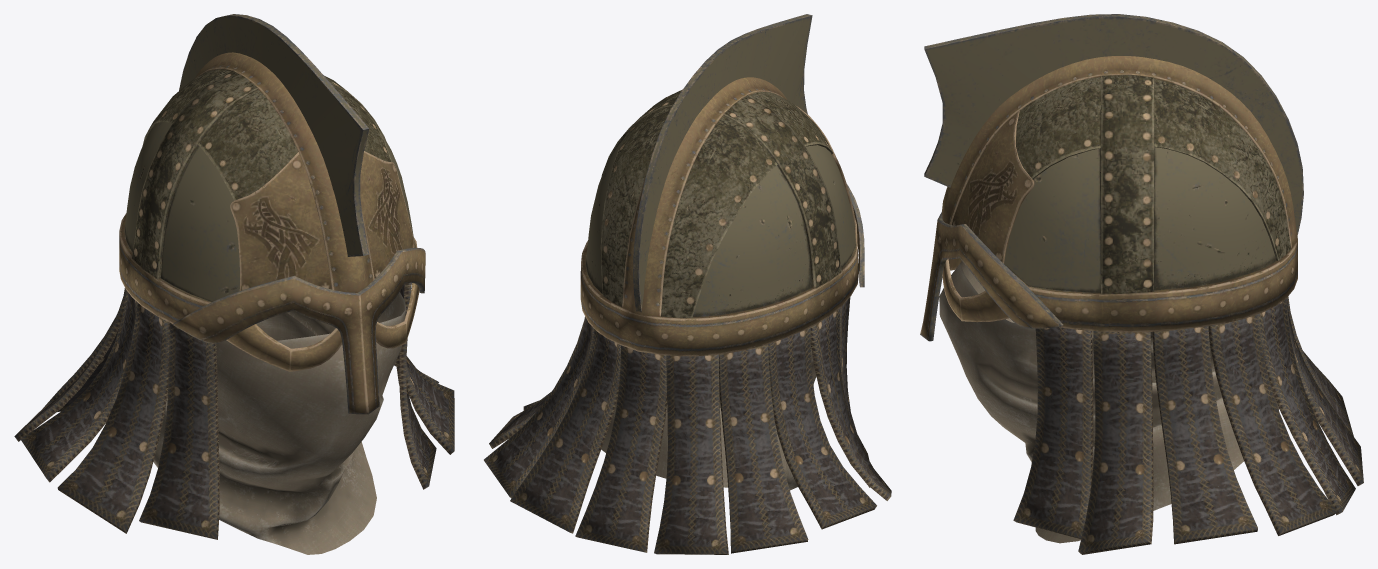
File: dunland_wulf_helmet_lord_c.fbx
3 renders of one model, left to right at view 1: azimuth 30°, elevation 25°; view 2: azimuth 150°, elevation 25°; view 3: azimuth 270°, elevation 25°, orthographic. The views are drawn at different scales.
Visible parts, largest first — view 1: dunland_wulf_helmet_lord_c; view 2: dunland_wulf_helmet_lord_c; view 3: dunland_wulf_helmet_lord_c.
Part boxes in pixels (x1=…): dunland_wulf_helmet_lord_c: x1=14, y1=14, x2=454, y2=554; dunland_wulf_helmet_lord_c: x1=484, y1=14, x2=891, y2=554; dunland_wulf_helmet_lord_c: x1=920, y1=14, x2=1363, y2=554.
Size of the model in its own units: 0.3247 by 0.3109 by 0.3904.
Materials: 1 (1 with a texture image).
